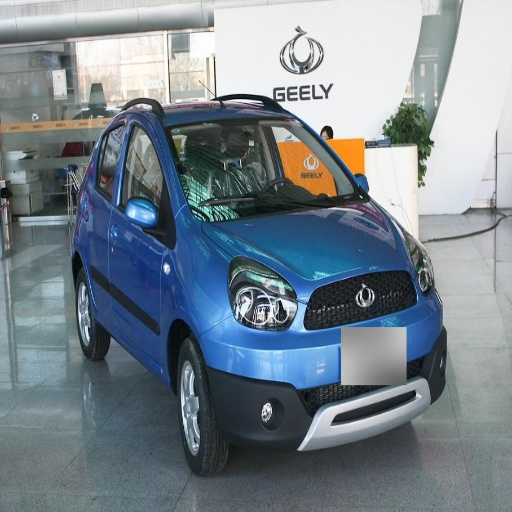front_bumper: (209, 270, 445, 449)
front_right_door: (113, 107, 170, 355)
front_right_light: (230, 259, 295, 329)
